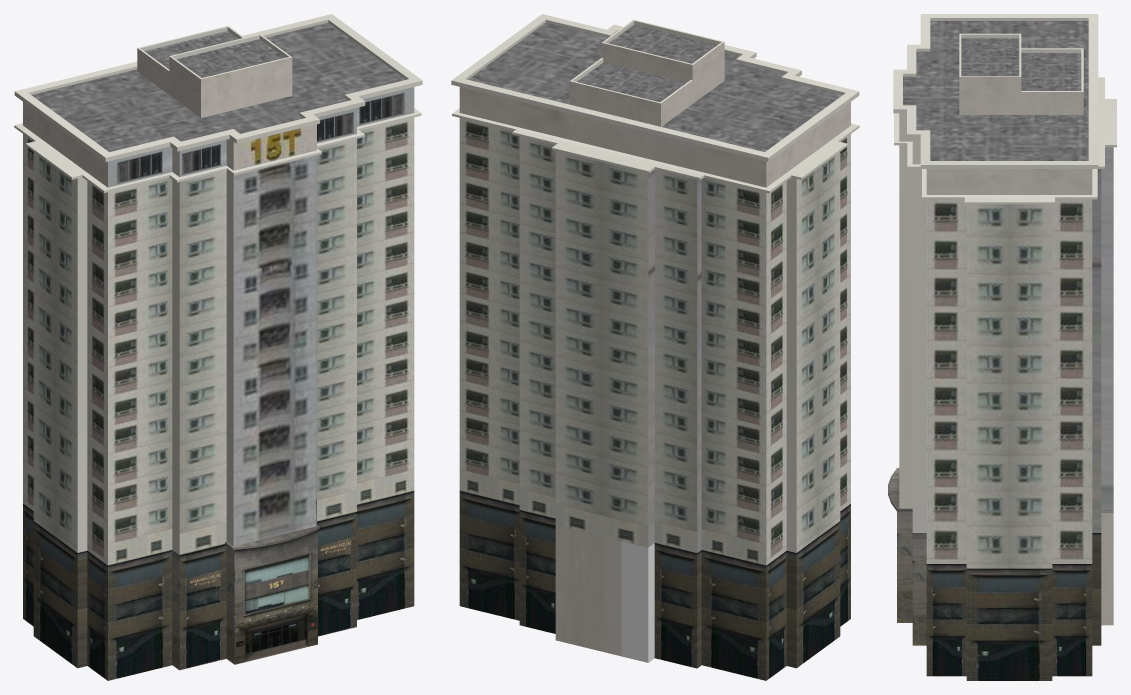
3 renders of one model, left to right at view 1: azimuth 30°, elevation 25°; view 2: azimuth 150°, elevation 25°; view 3: azimuth 270°, elevation 25°, orthographic. The views are drawn at different scales.
Parts seen in each view (by area): view 1: HN796_15TTrungHoa; view 2: HN796_15TTrungHoa; view 3: HN796_15TTrungHoa.
Part boxes in pixels (left/top/right/bottom): HN796_15TTrungHoa: left=14, top=14, right=422, bottom=680; HN796_15TTrungHoa: left=451, top=14, right=859, bottom=680; HN796_15TTrungHoa: left=888, top=14, right=1116, bottom=680.
Bounding box in the file's own units: 39.56 × 62.88 × 23.74.
1 material, 1 textured.
